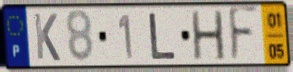1: (117, 13, 134, 61)
8: (63, 8, 98, 66)
F: (227, 4, 260, 66)
H: (190, 8, 228, 62)
K: (32, 12, 62, 64)
L: (148, 11, 178, 61)
